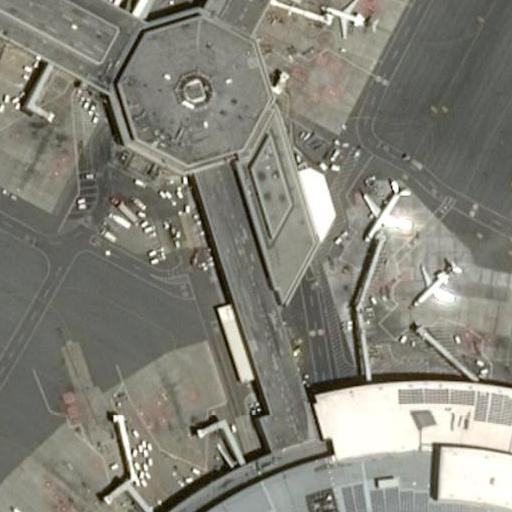Aircraft: (319, 0, 368, 44), (0, 509, 36, 512)
